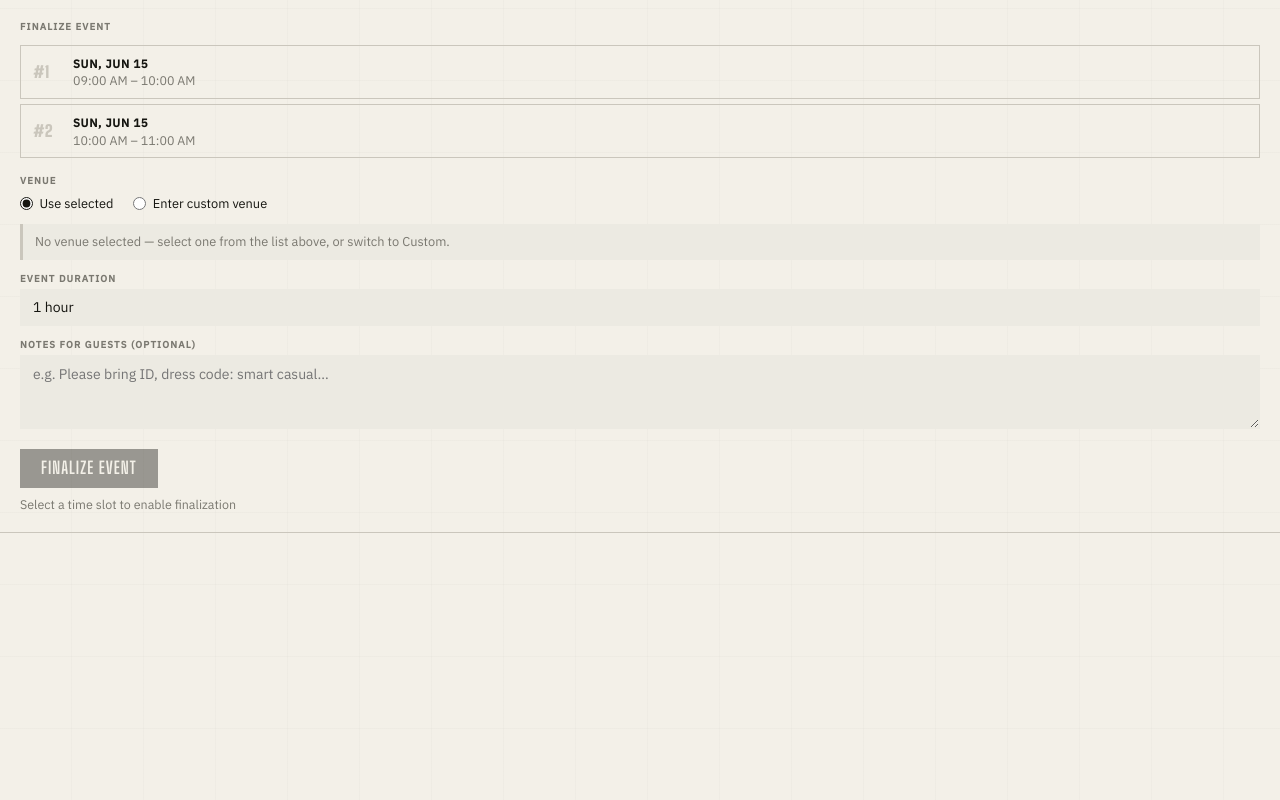
Test: FinalizePanel › clicking Finalize Event opens a confirmation modal
Step 1. Click the button with test id "slot-card-slot-1" → (111, 63), box [20,45,1260,99]
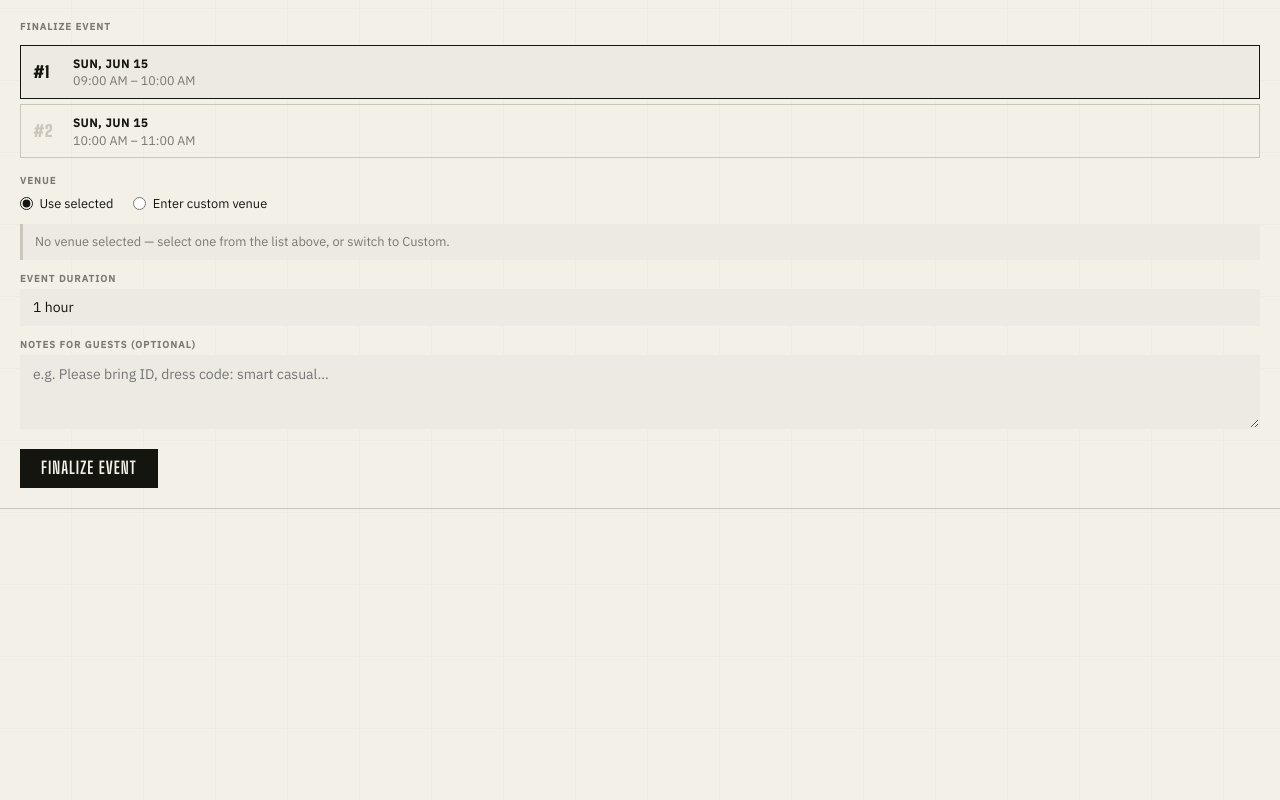
Step 2. Click the button with test id "finalize-btn" → (89, 469), box [20,449,158,488]
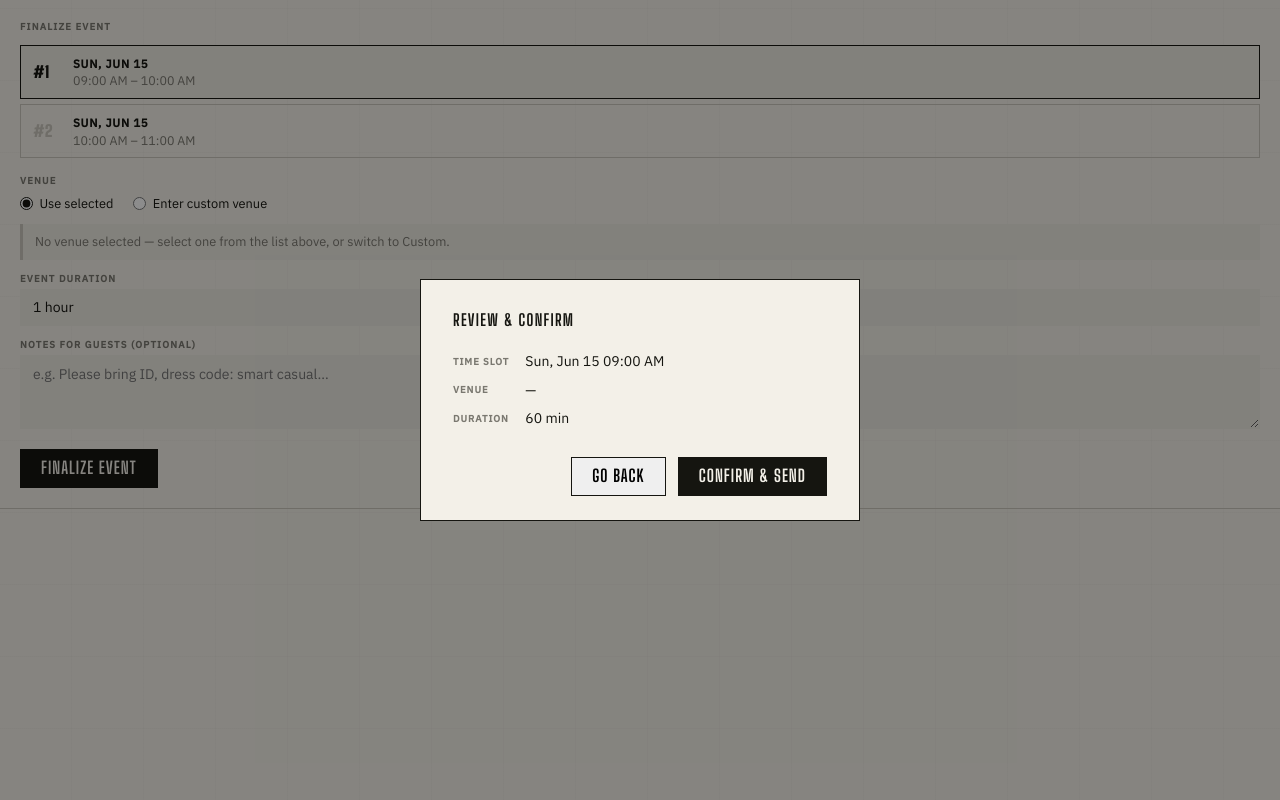
Now the dialog with test id "finalize-confirm-modal" is shown
